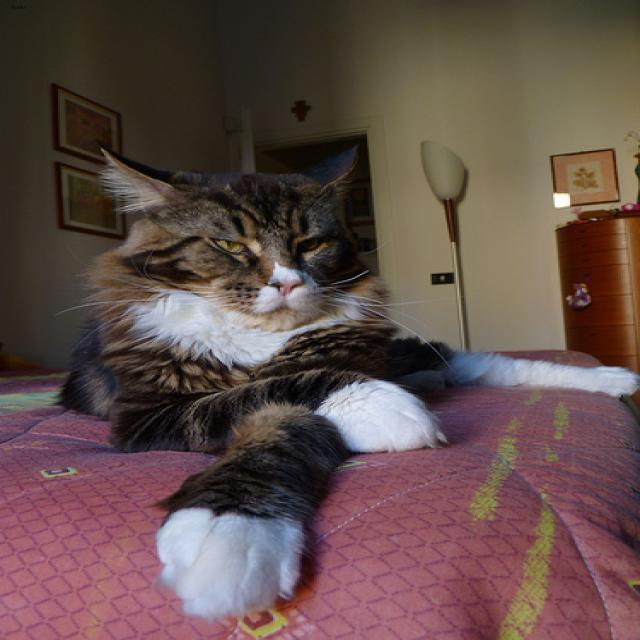Maine_Coon: (88, 137, 368, 332)
